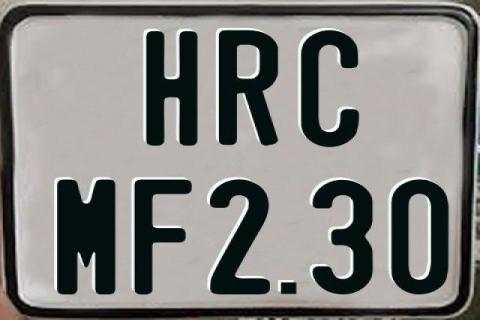0: (207, 177, 273, 293), (310, 179, 372, 295), (389, 179, 449, 295)
C: (298, 30, 356, 146)
F: (133, 179, 195, 296)
H: (146, 29, 200, 147)
M: (54, 178, 112, 292)
R: (216, 29, 276, 150)
